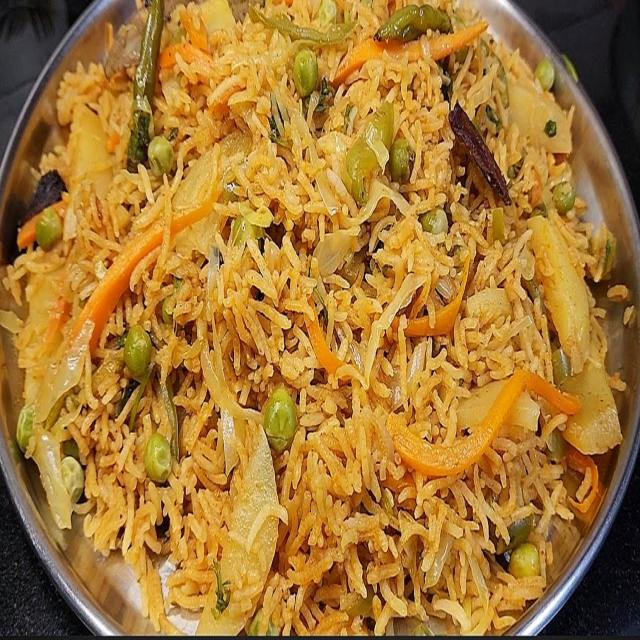veg palav: (0, 5, 640, 640)
